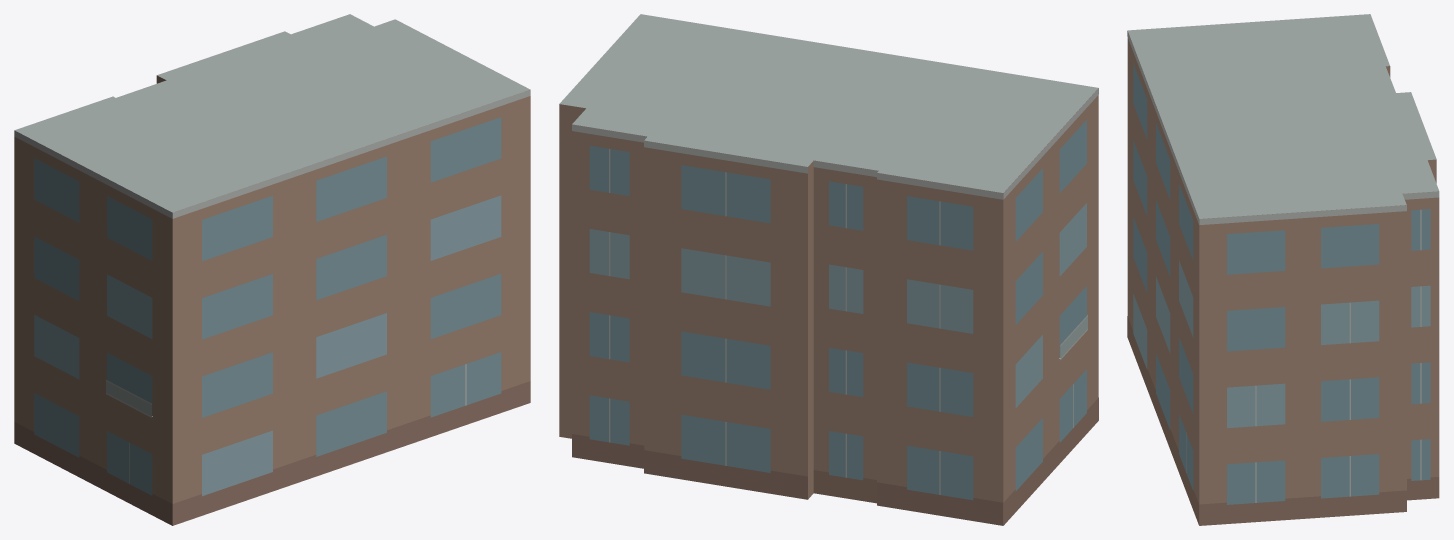
The model's file is survey-upis-32955682.glb.
3 renders of one model, left to right at view 1: azimuth 30°, elevation 25°; view 2: azimuth 150°, elevation 25°; view 3: azimuth 270°, elevation 25°, orthographic. The views are drawn at different scales.
Visible parts, largest first — view 1: survey-upis-32955682.tmp; view 2: survey-upis-32955682.tmp; view 3: survey-upis-32955682.tmp.
Part boxes in pixels (x1=…): survey-upis-32955682.tmp: x1=14, y1=14, x2=530, y2=525; survey-upis-32955682.tmp: x1=559, y1=14, x2=1098, y2=525; survey-upis-32955682.tmp: x1=1127, y1=14, x2=1439, y2=525.
Size of the model in its own units: 17.49 by 12.2 by 11.25.
